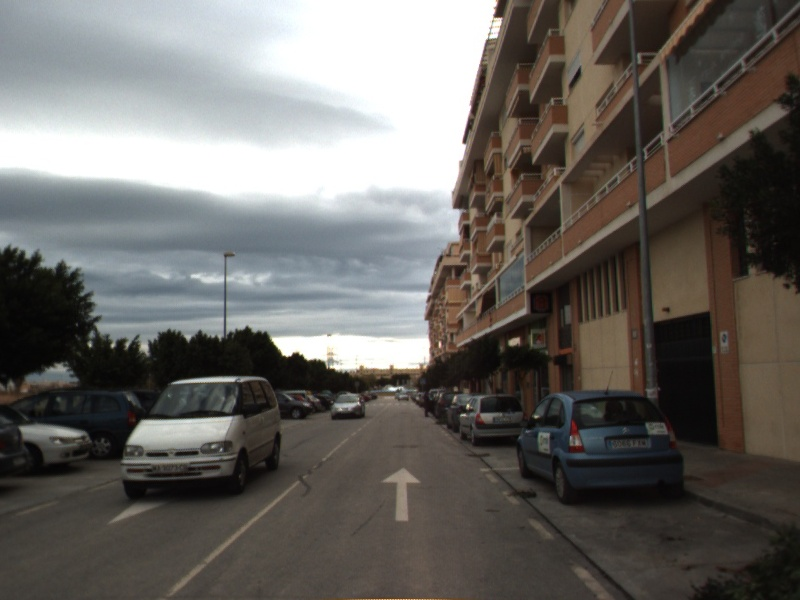STRAIGHT: (378, 465, 423, 523)
